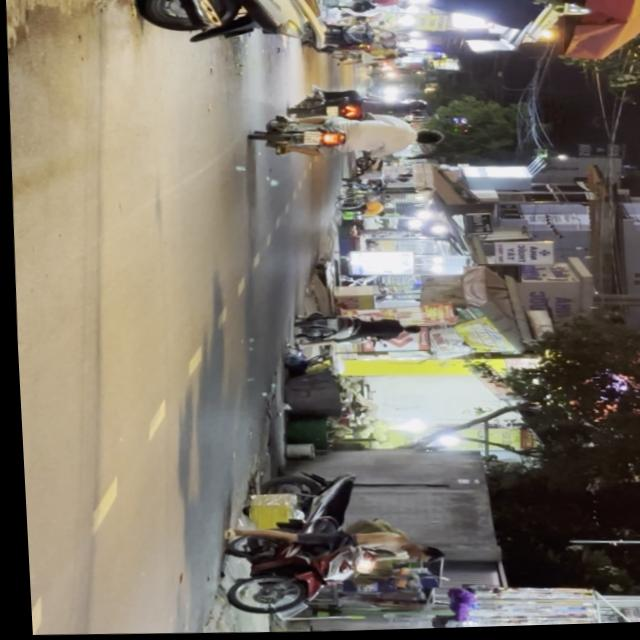licenseplate: (208, 516, 446, 624), (249, 112, 446, 165)
motorcyclist: (397, 543, 440, 566), (415, 132, 444, 148)
nohelmet: (302, 132, 321, 147)
